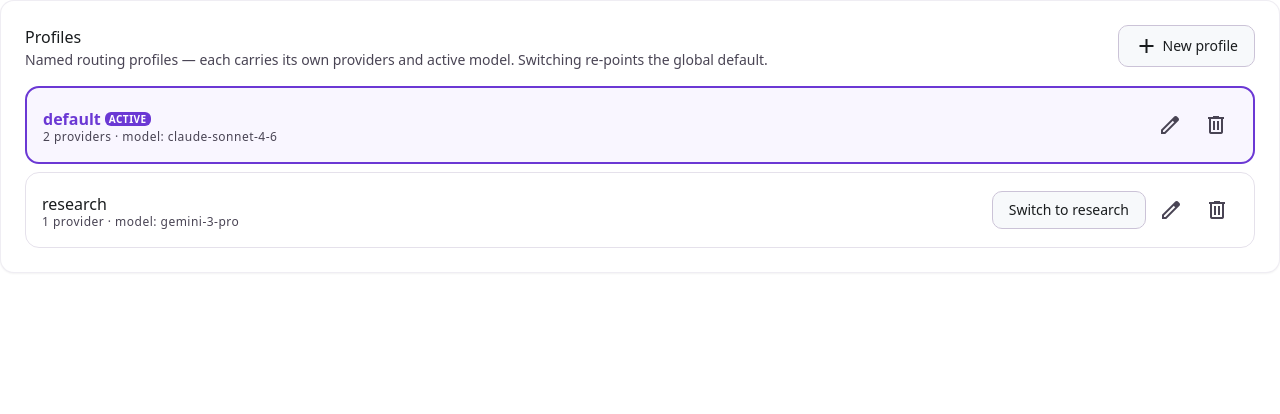
Test: ProfilesSection (R3-2) › rename: duplicate target is blocked client-side; invalid name never reaches the api
The width and height of the screenshot is (1280, 414).
Click the button with test id "profile-rename-research" at (1171, 210), box [1150,189,1192,231]
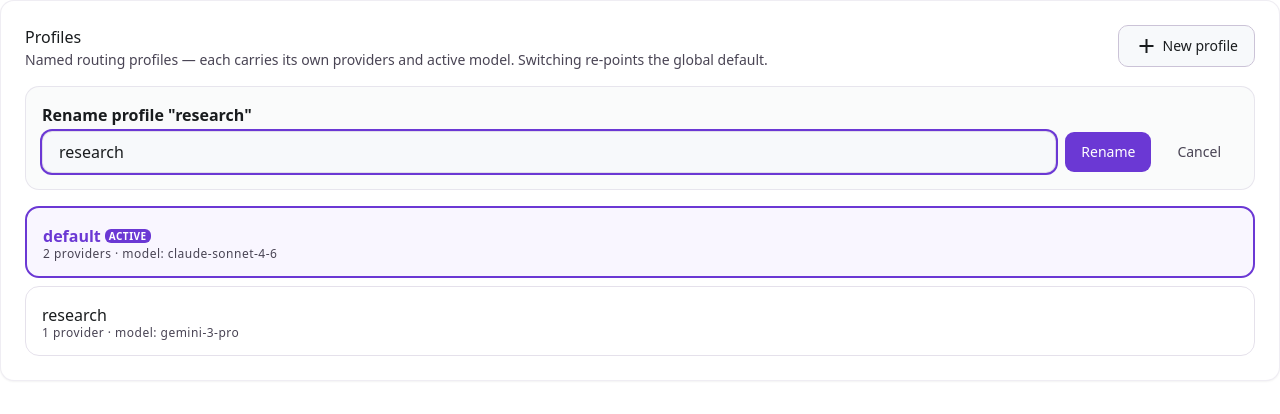
Replace the text in the field with test id "profile-rename-input" with "DEFAULT" at (549, 152), box [42,131,1056,173]
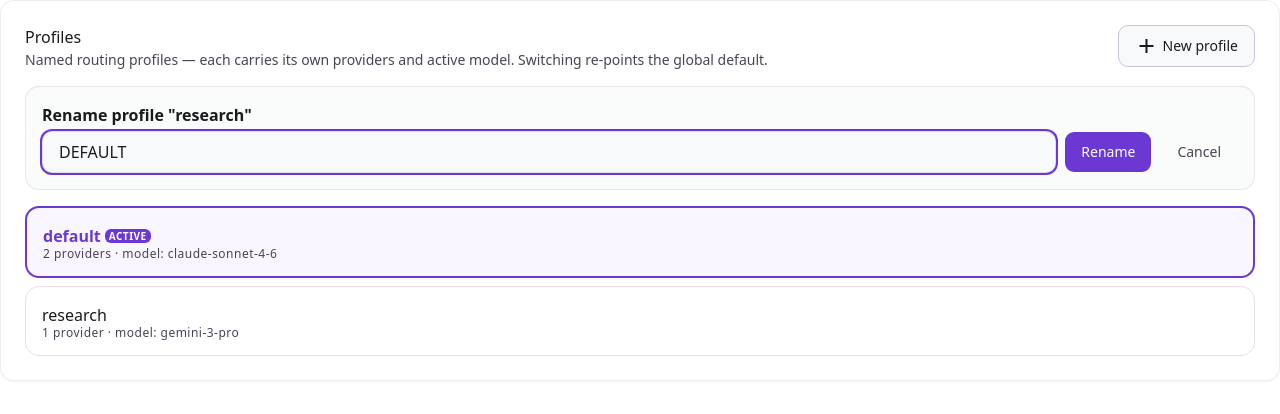
Click the button "Rename" at (1108, 152), box [1064,131,1152,173]
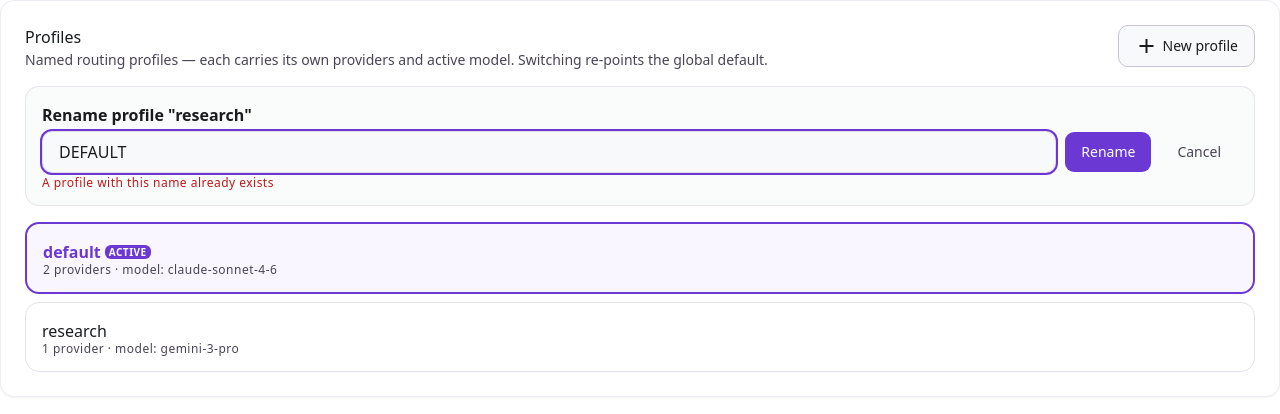
expect the message shows "already exists": met, box [42,174,274,191]
Replace the text in the field with test id "profile-rename-input" with "has space" at (549, 152), box [42,131,1056,173]
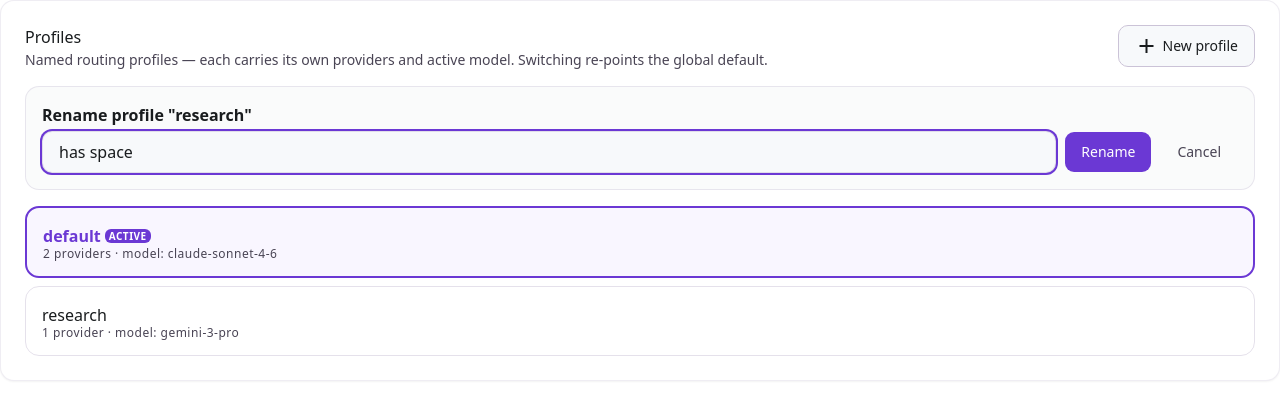
Click the button "Rename" at (1108, 152), box [1064,131,1152,173]
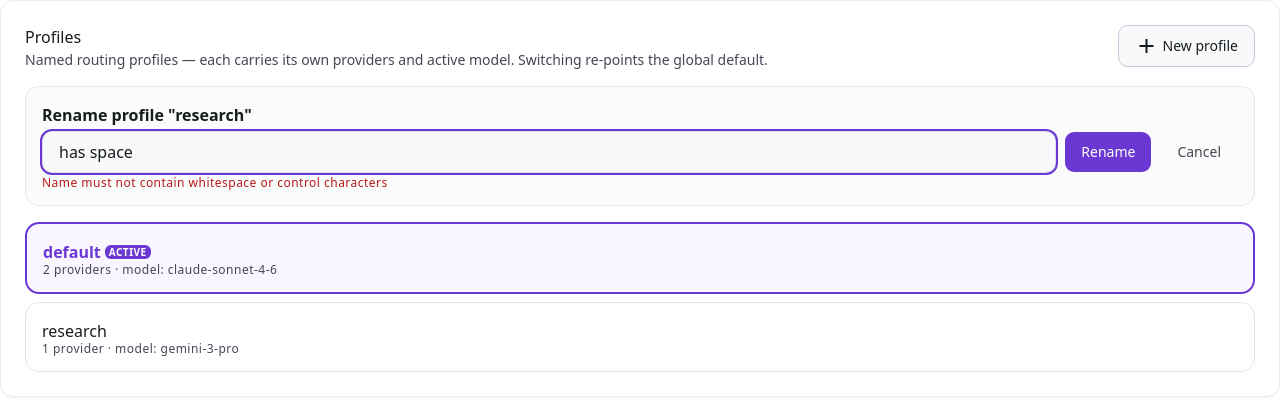
expect the message shows "whitespace": met, box [42,174,388,191]
